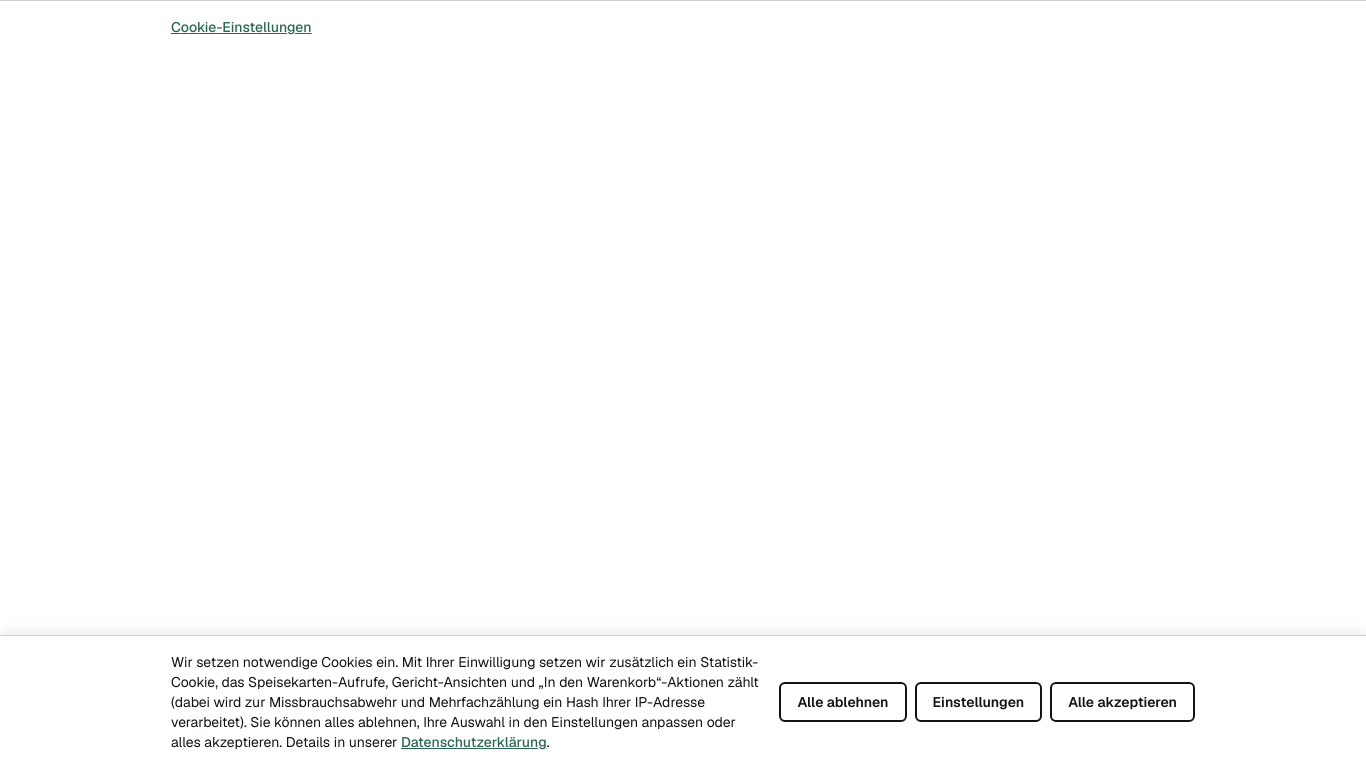
Test: CookieConsentBanner settings dialog › opens an accessible modal dialog with both categories, tables, and statistics off by default
This screenshot has width=1366, height=768.
Click the button "Einstellungen": click(978, 702) [914,682,1042,722]
(page scrolled)
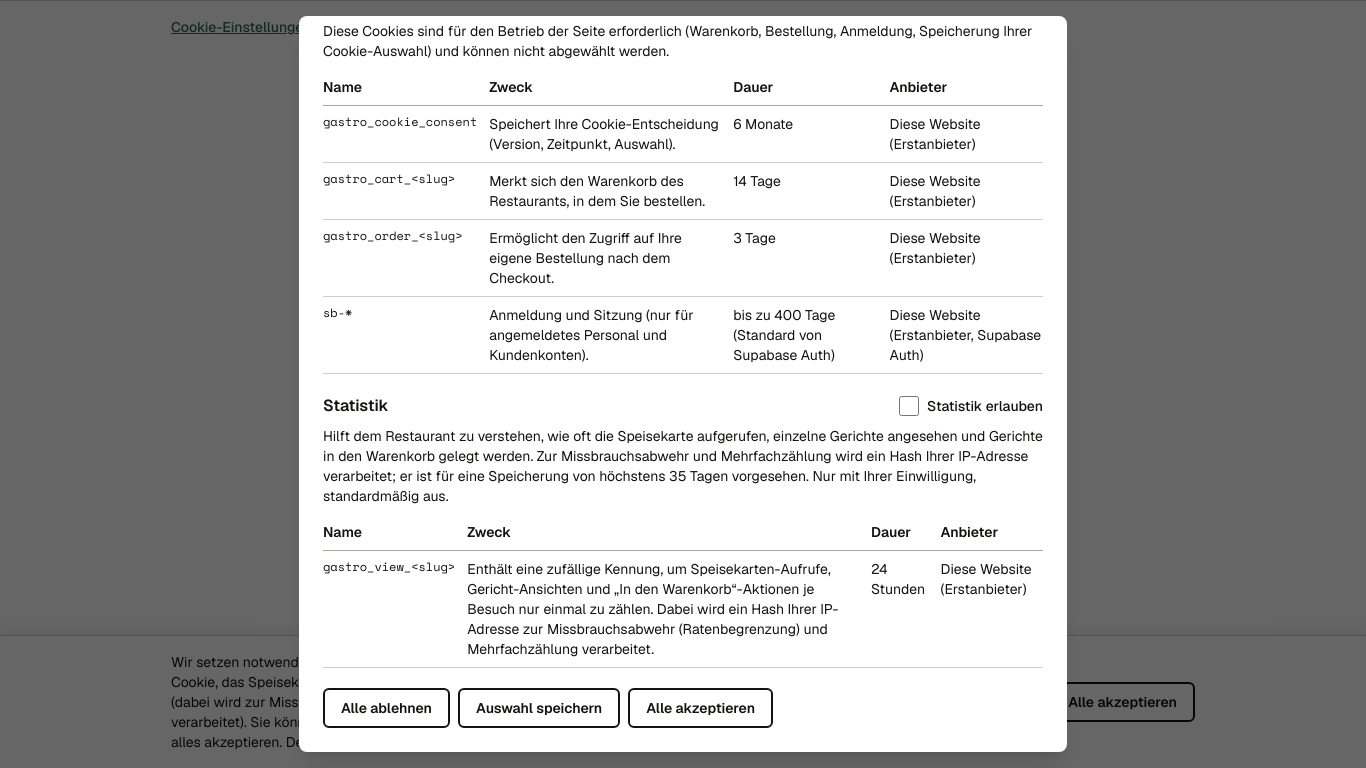
Now the heading "Statistik" is shown, box [323,394,388,418]
Now the checkbox labelled "Statistik erlauben" is not checked, box [899,396,919,416]
Now the number of column headings "Name" is 2, box [323,69,489,106]; [323,514,467,550]
